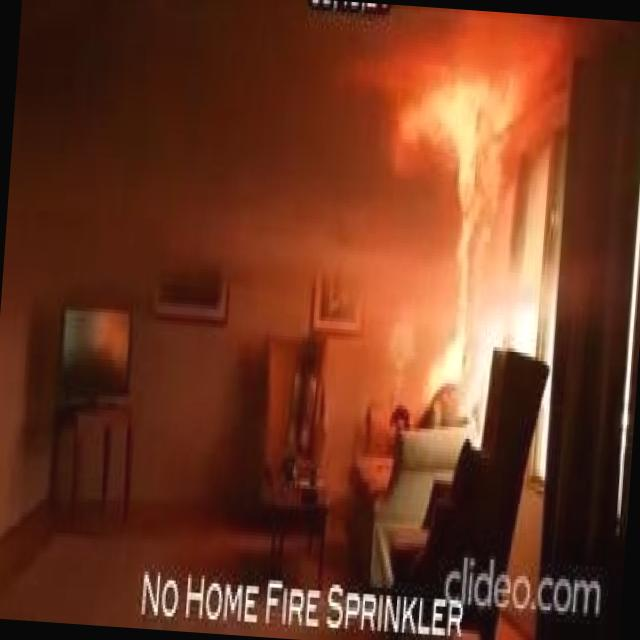fire: (368, 6, 541, 461)
